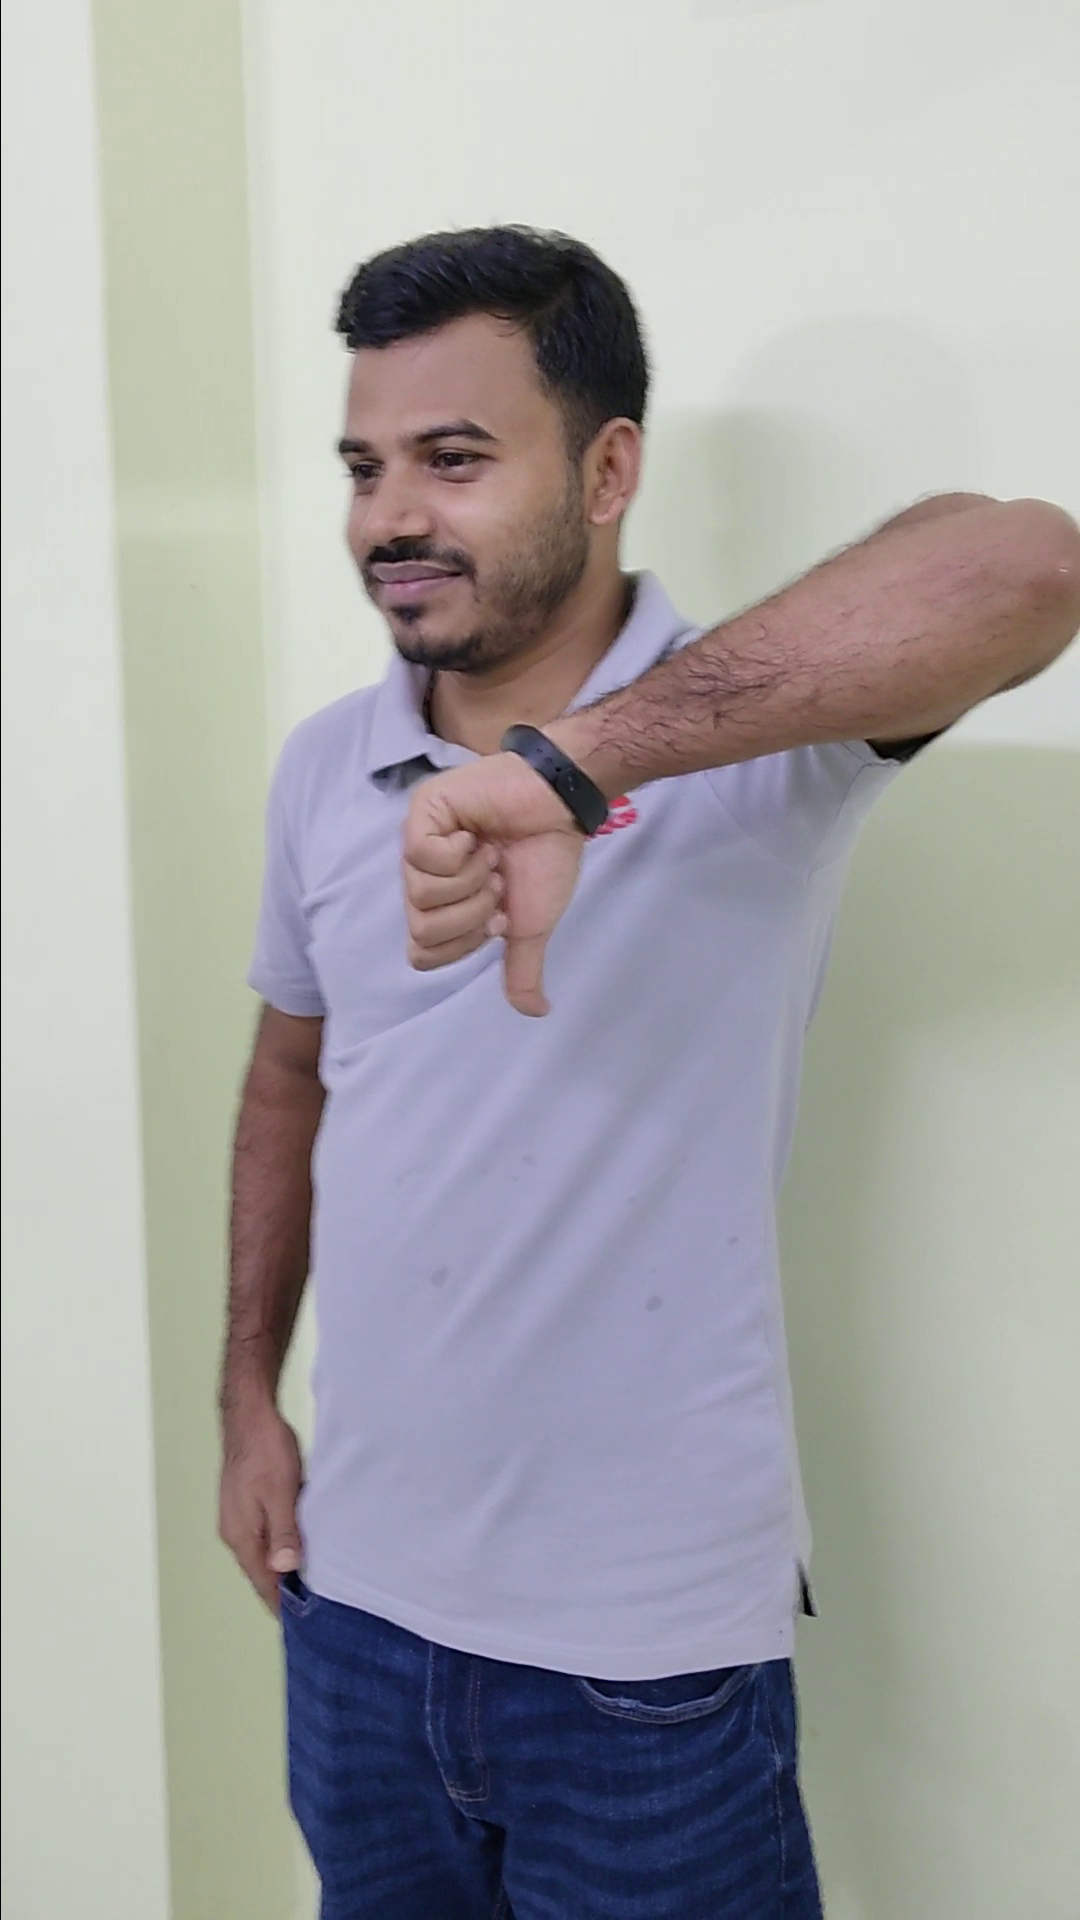Dislike: (373, 709, 603, 1036)
None: (189, 1348, 336, 1640)
